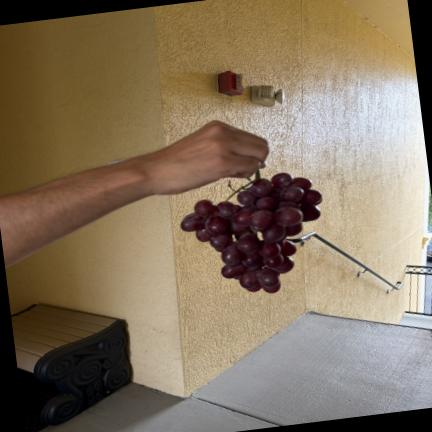grape_cluster: (180, 170, 322, 293)
